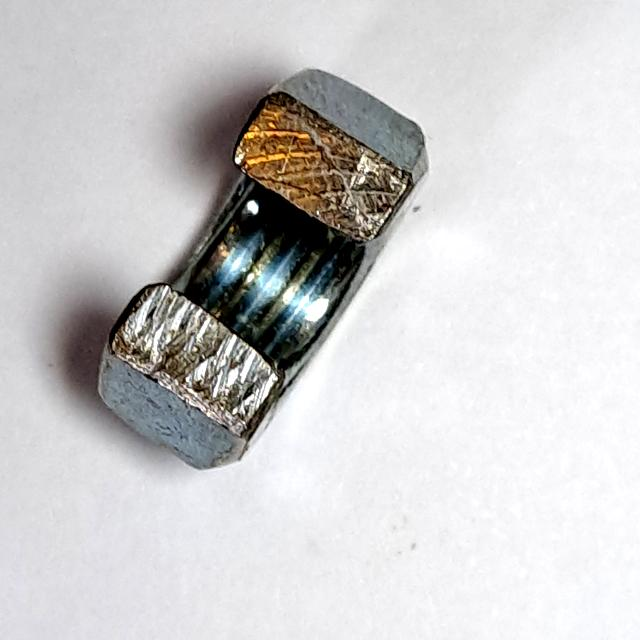Side-Fracture: (83, 58, 443, 482)
